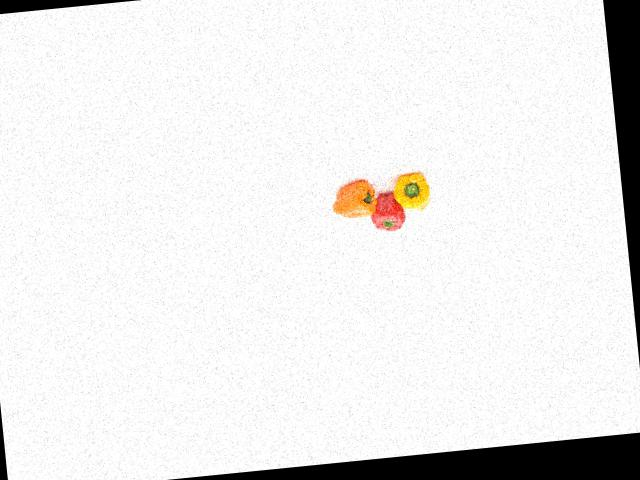bell_pepper: (387, 170, 434, 214)
